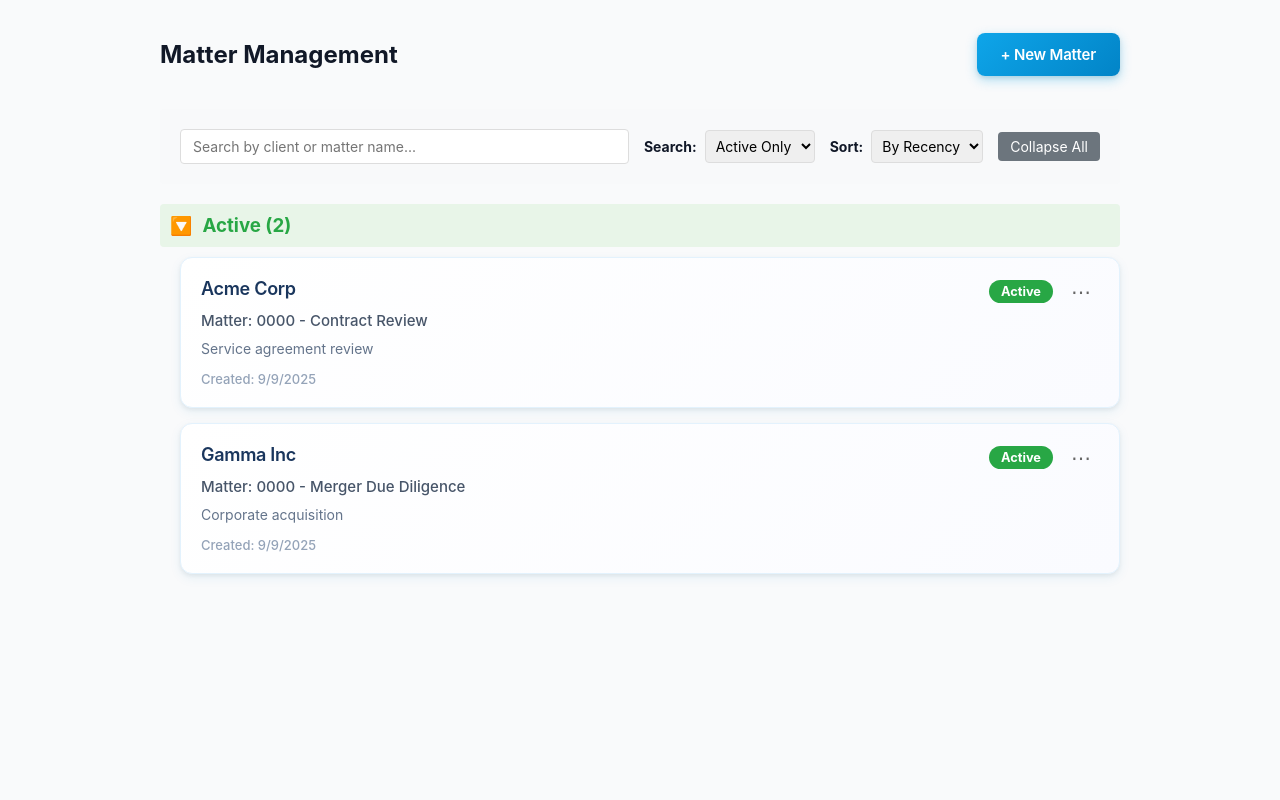
MatterManagement - Search and Collapsible Sections › expand/collapse all button works
# Switch to "All Matters" to see all sections
Select "All Matters" in the dropdown showing "Active Only" next to "Search:" at (760, 146), box [705,130,815,163]
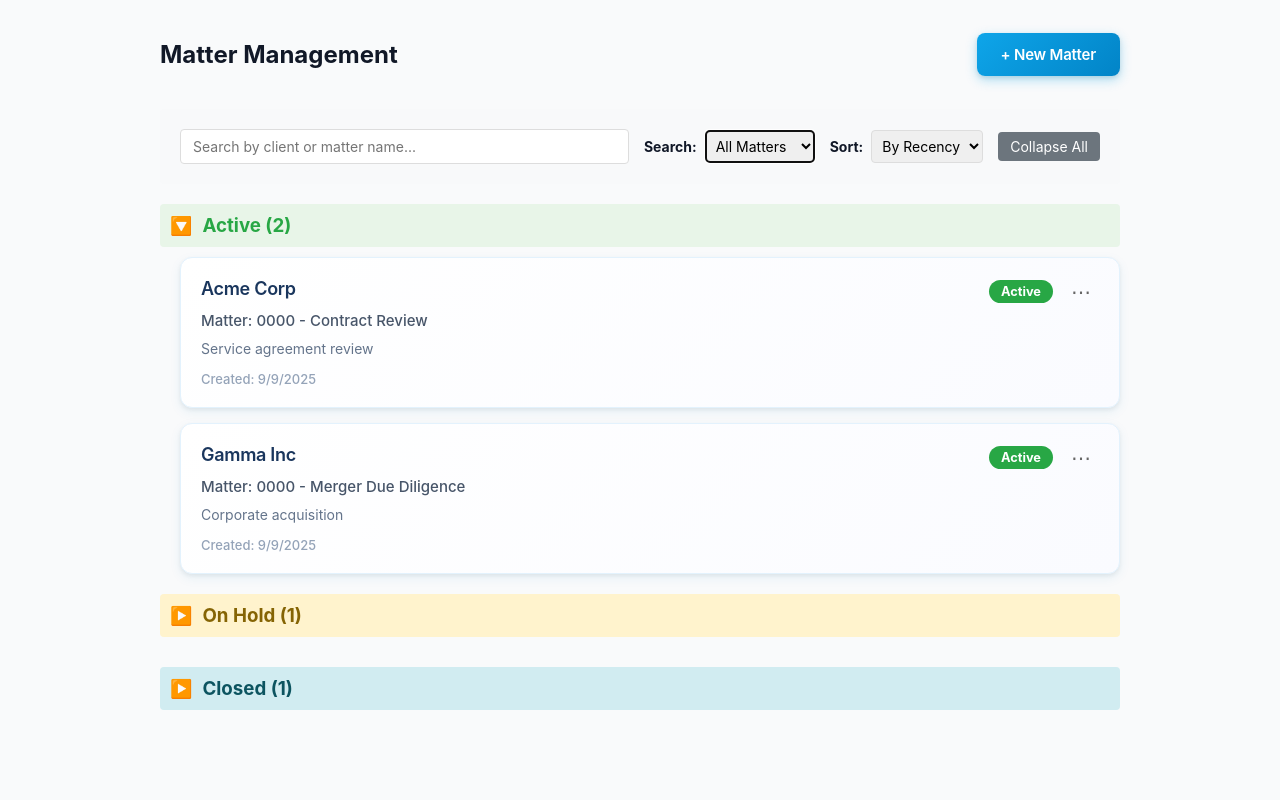
Expected: the text "Matter: 0000 - Contract Review" is shown, [201,311,428,330]
Result: the heading "On Hold (1)" is shown at [202,604,302,627]
# Click "Collapse All" (since Active is expanded, button shows Collapse All)
Click the button "Collapse All".
click(1049, 146)  # box [998,132,1100,161]
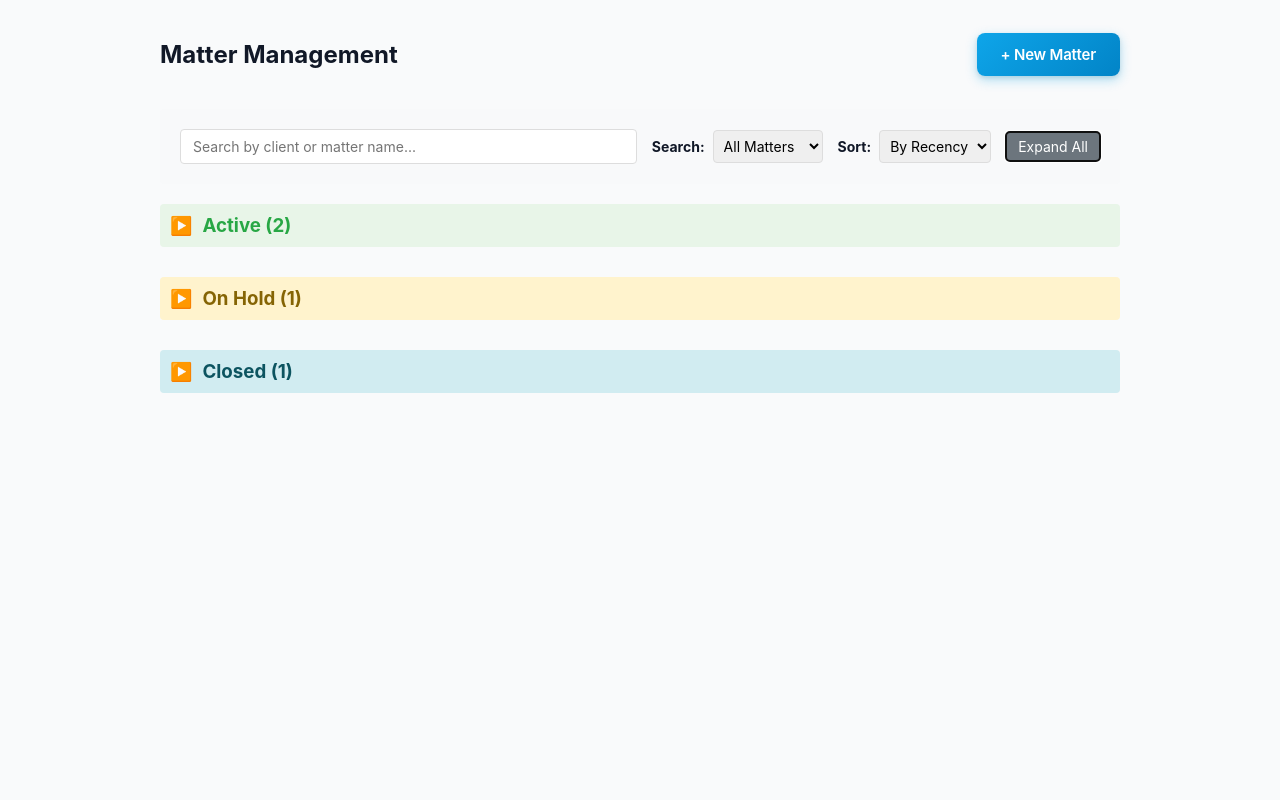
Expected: the text "Litigation Support" is not shown
Result: the text "Contract Review" is gone
Result: the button "Expand All" is shown
# Click "Expand All"
Click the button "Expand All".
click(1053, 146)  # box [1006,132,1100,161]
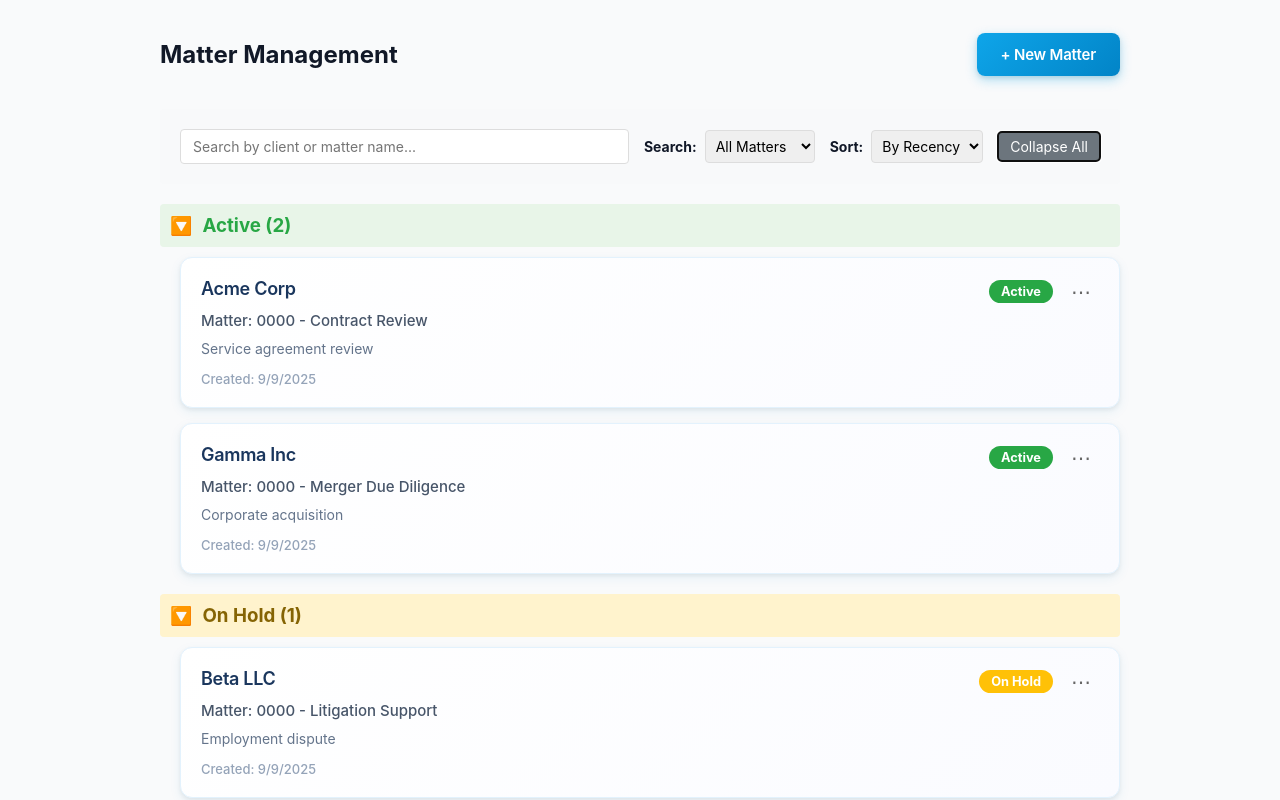
Result: the text "Matter: 0000 - Contract Review" is shown at [201,311,428,330]
Result: the text "Matter: 0000 - Litigation Support" is shown at [201,701,438,720]
Result: the button "Collapse All" is shown at [998,132,1100,161]
